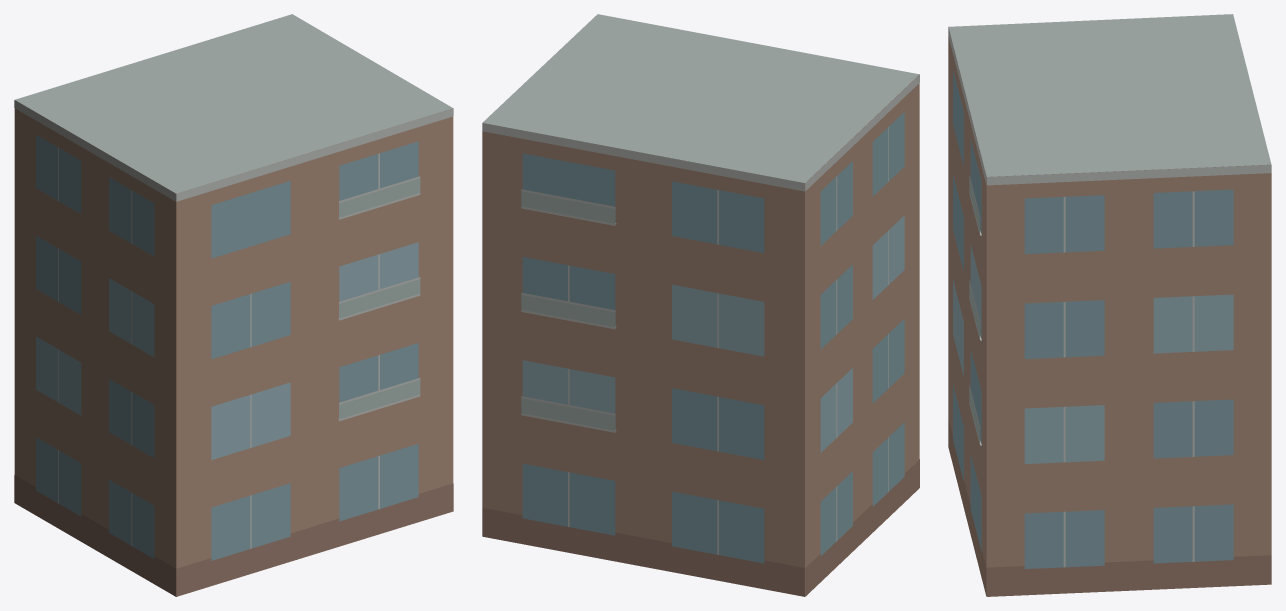
The model's file is survey-upis-33009791.glb.
3 views of the same model, side by side, from view 1: azimuth 30°, elevation 25°; view 2: azimuth 150°, elevation 25°; view 3: azimuth 270°, elevation 25° (orthographic). The views are drawn at different scales.
Parts seen in each view (by area): view 1: survey-upis-33009791.tmp; view 2: survey-upis-33009791.tmp; view 3: survey-upis-33009791.tmp.
Boxes of the visible parts, x1,y1,x2,y2 form: survey-upis-33009791.tmp: (14,14,453,596); survey-upis-33009791.tmp: (482,14,919,596); survey-upis-33009791.tmp: (948,14,1271,596).
Bounding box in the file's own units: 10 × 12 × 8.38.
